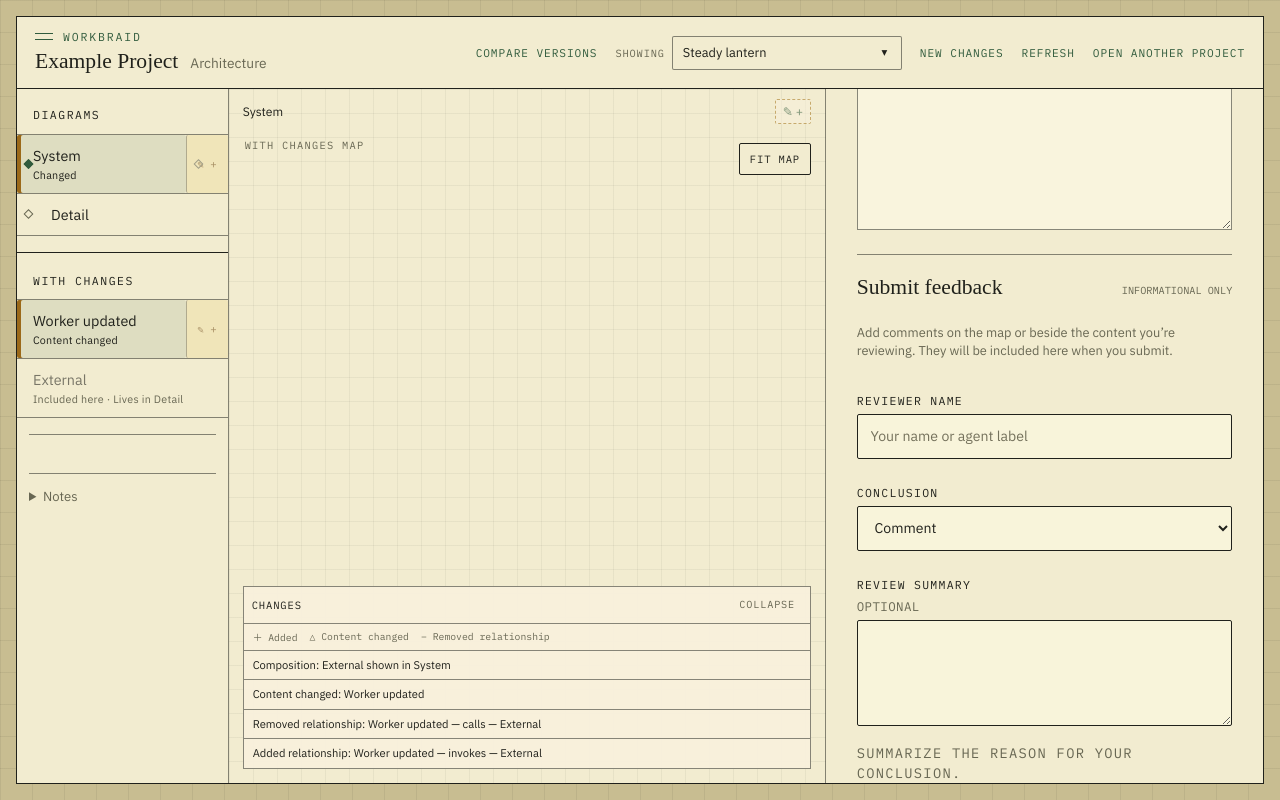
candidate review regressions › protects unsent review feedback before continuing to proposal editing
The width and height of the screenshot is (1280, 800).
(page scrolled)
Type "Local reviewer" into the field labelled "Reviewer name". click: (1045, 436)
box: [857, 414, 1232, 459]
(page scrolled)
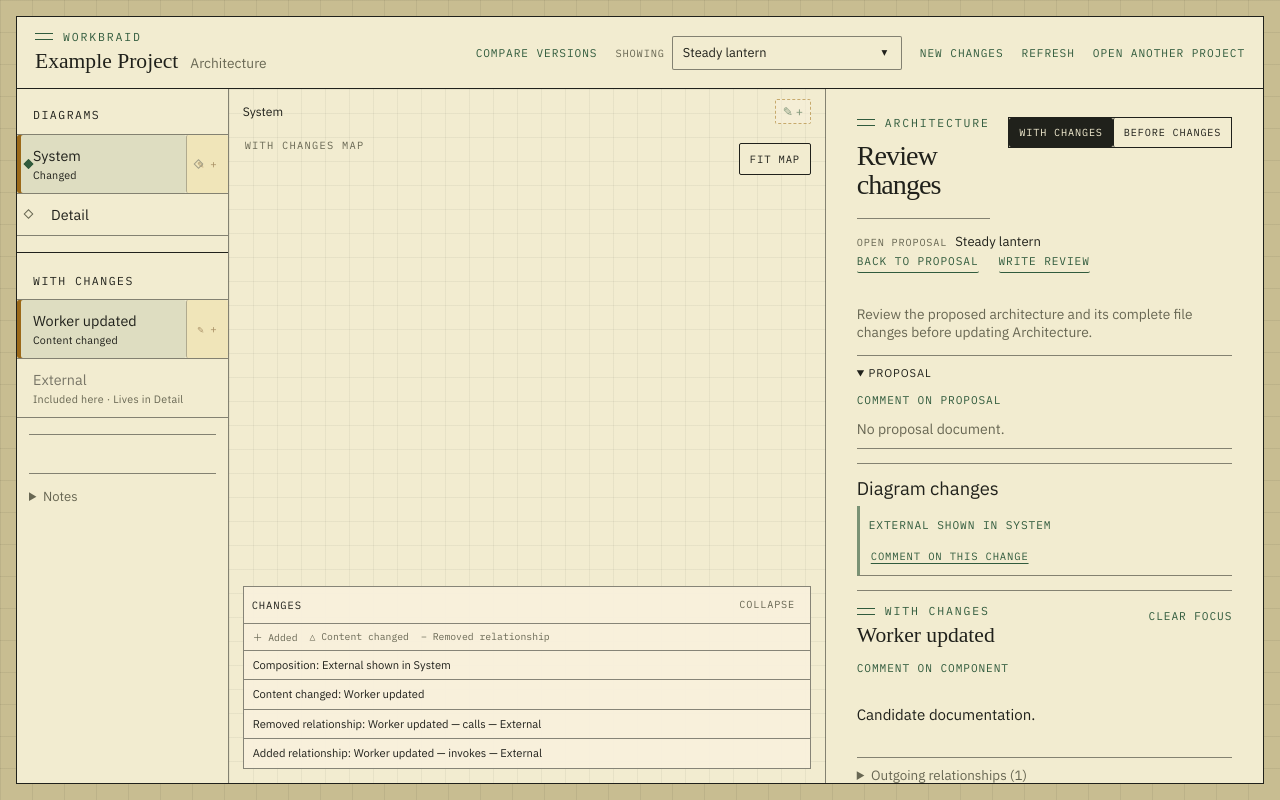
Click the button "Back to proposal". click: (918, 261)
box: [857, 250, 979, 273]
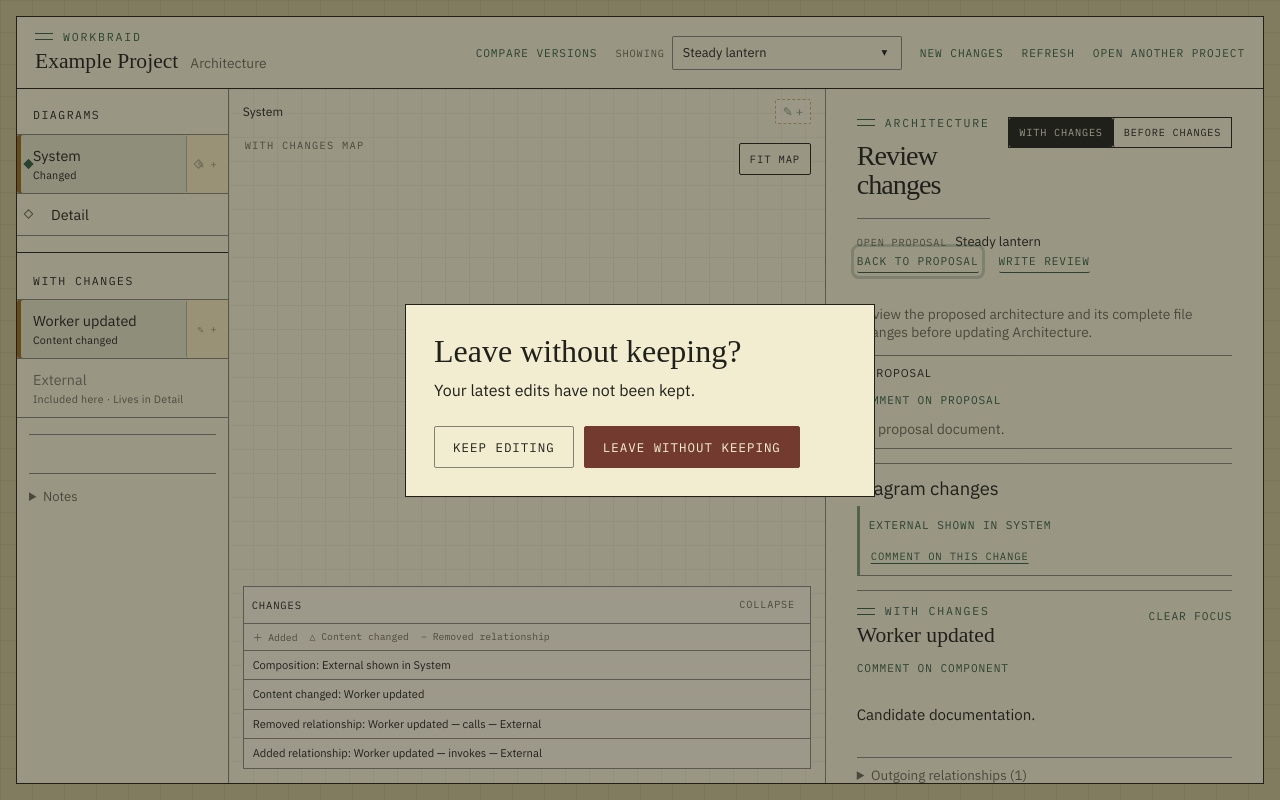
Click the button "Keep editing". click: (504, 446)
box: [434, 426, 574, 468]
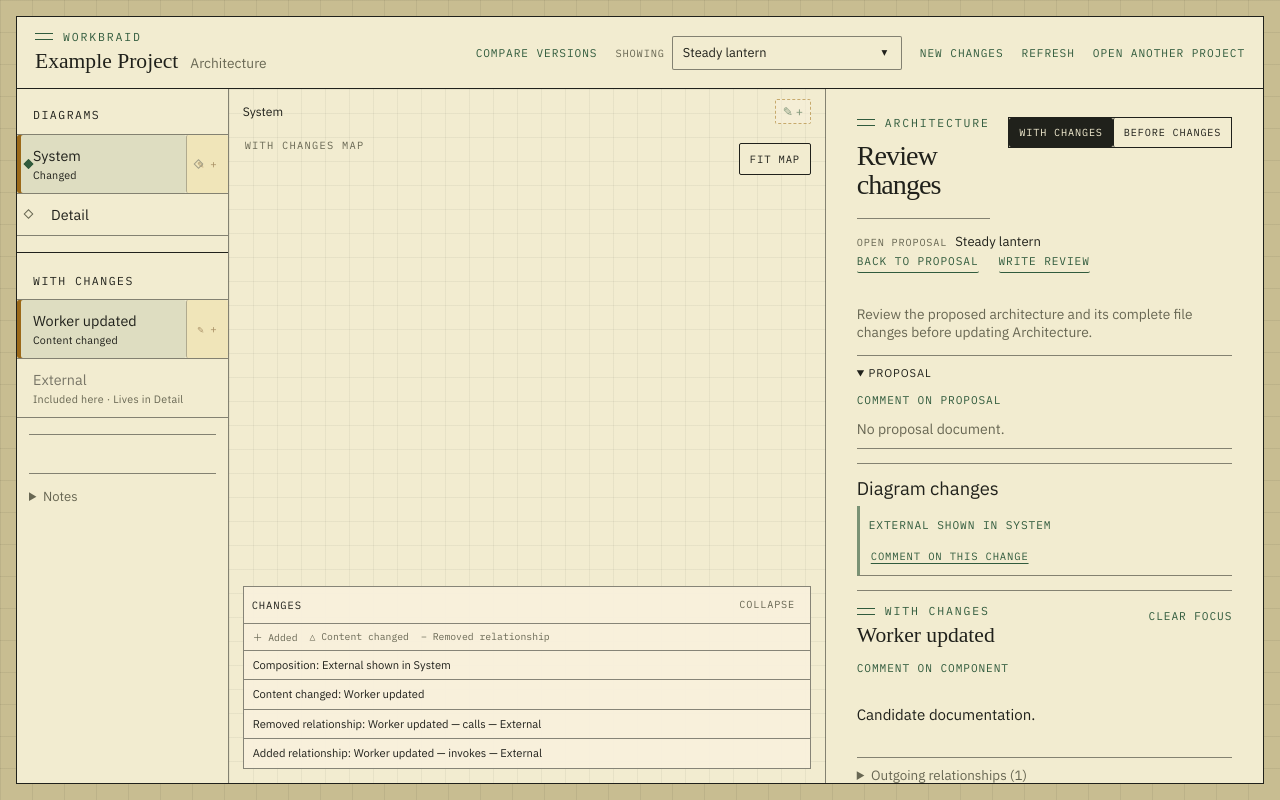
Click the button "Back to proposal". click: (918, 261)
box: [857, 250, 979, 273]
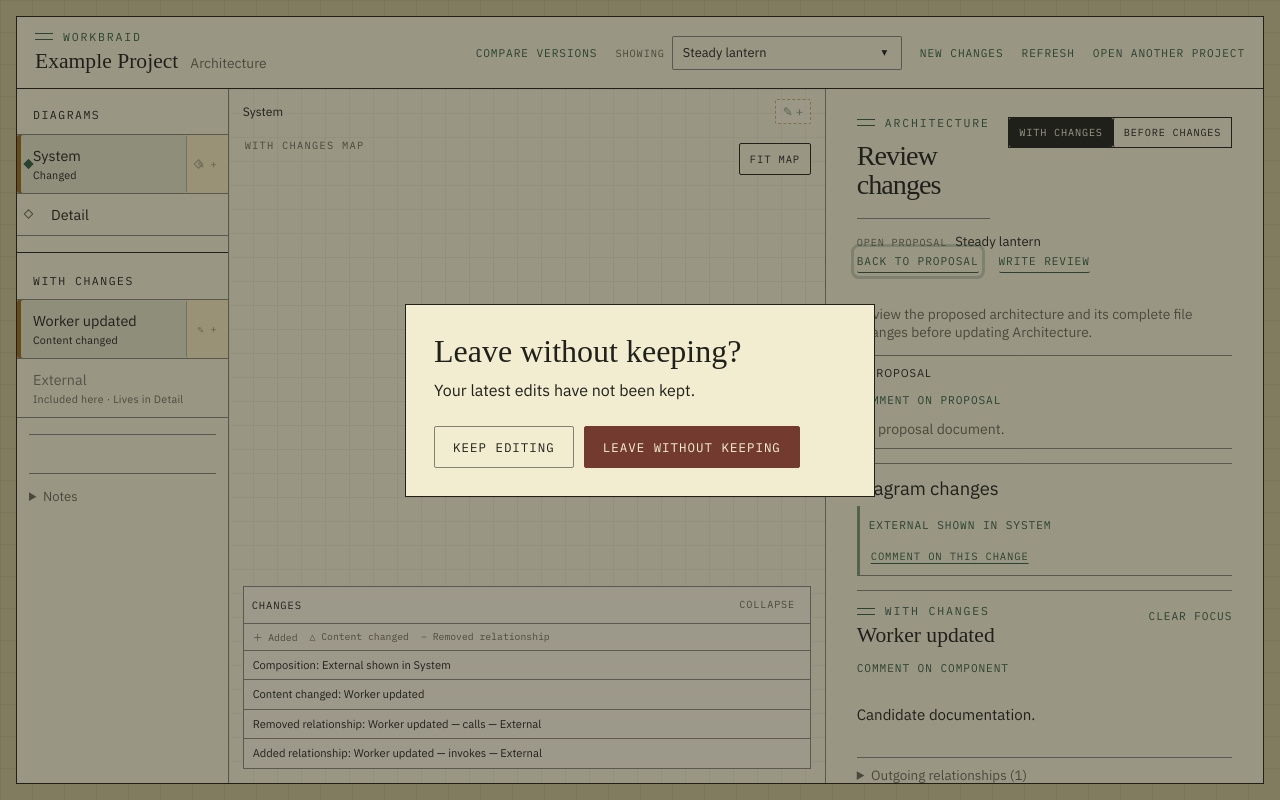
Click the button "Leave without keeping". click: (692, 446)
box: [584, 426, 800, 468]
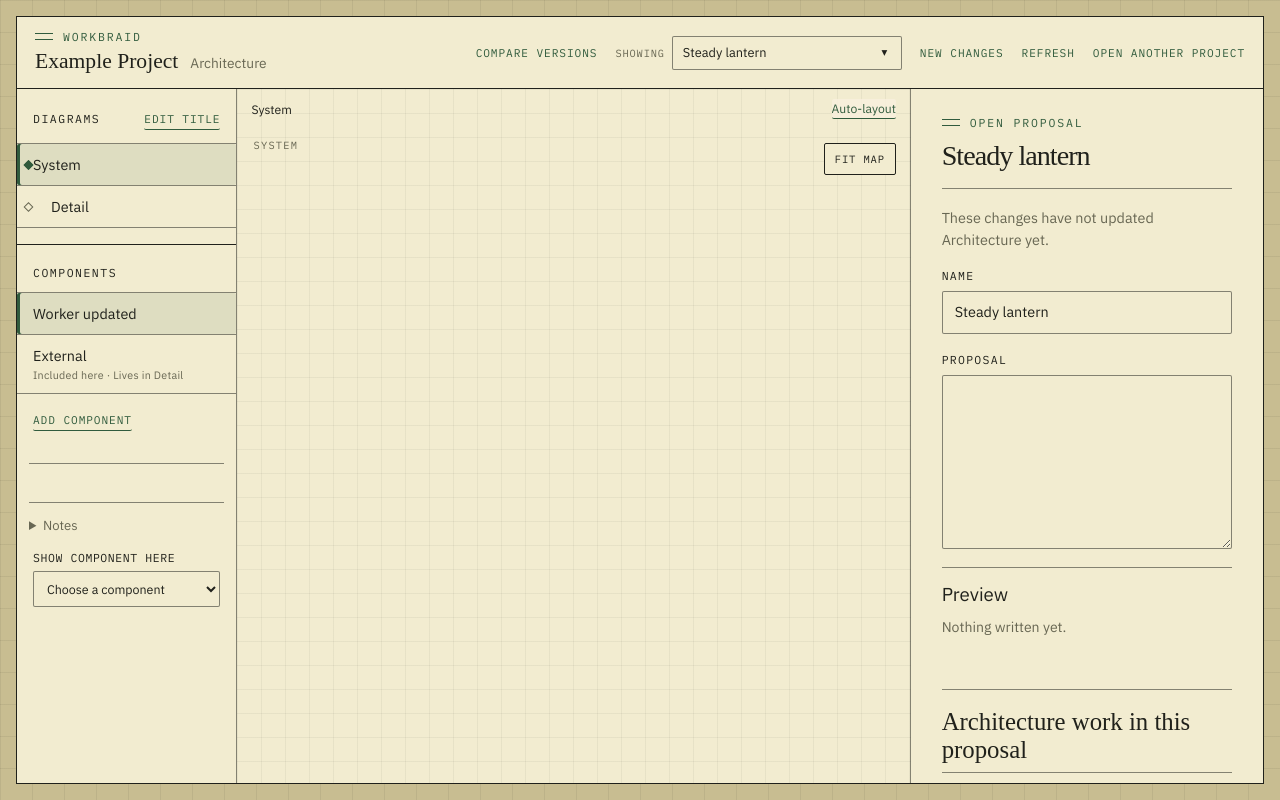
Expected: the heading "Review changes" is gone
Expected: the text box labelled "Proposal" is shown, [942, 375, 1232, 549]
